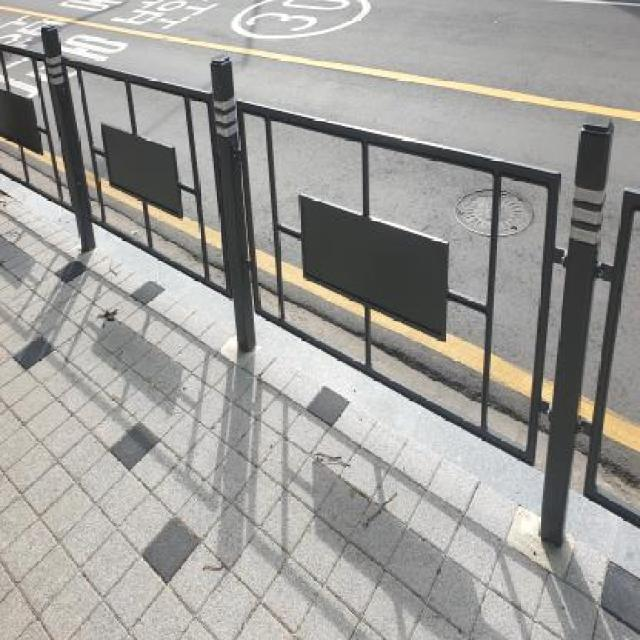fence: (202, 12, 640, 574), (0, 0, 315, 391)
